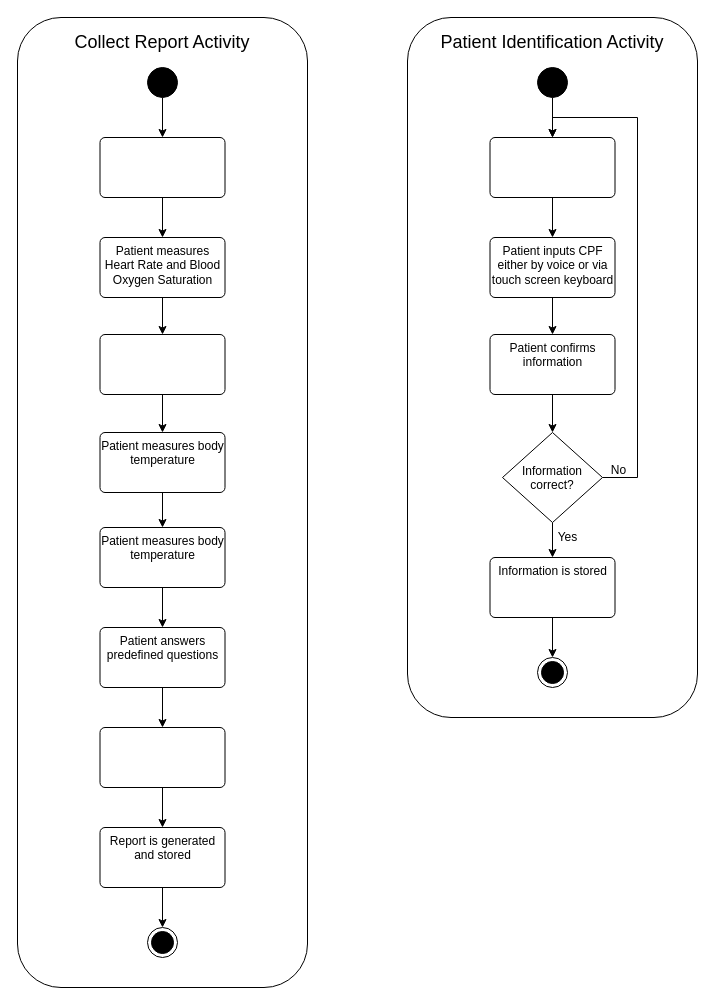
This 715x1005 diagram has some shape labels left out. Each missing label, with the centre of its shape:
"Patient answers bonus context based questions" goes at [162,757].
"Patient identifies him/herself" goes at [162,167].
"Patient measures blood pressure" goes at [162,364].
"Patients inputs name either by voice or via touch screen keyboard" goes at [552,167].
